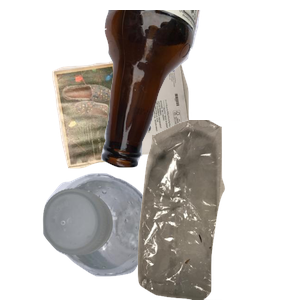glass: (99, 10, 300, 170)
paper: (49, 51, 235, 212)
plastic: (40, 170, 187, 300)
trash: (114, 120, 300, 300)
